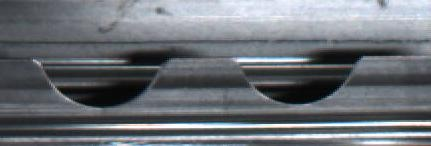twou: (38, 49, 360, 116)
